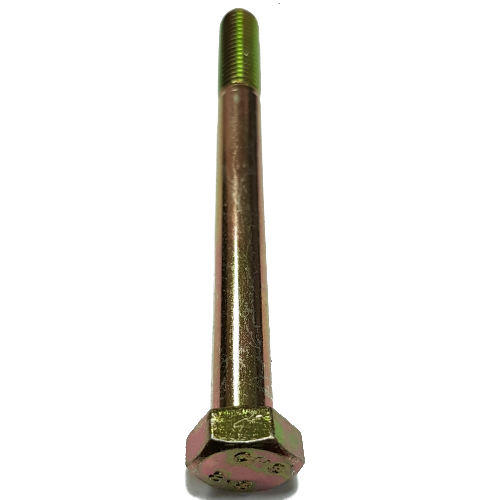Tornillo: (182, 6, 310, 494)
